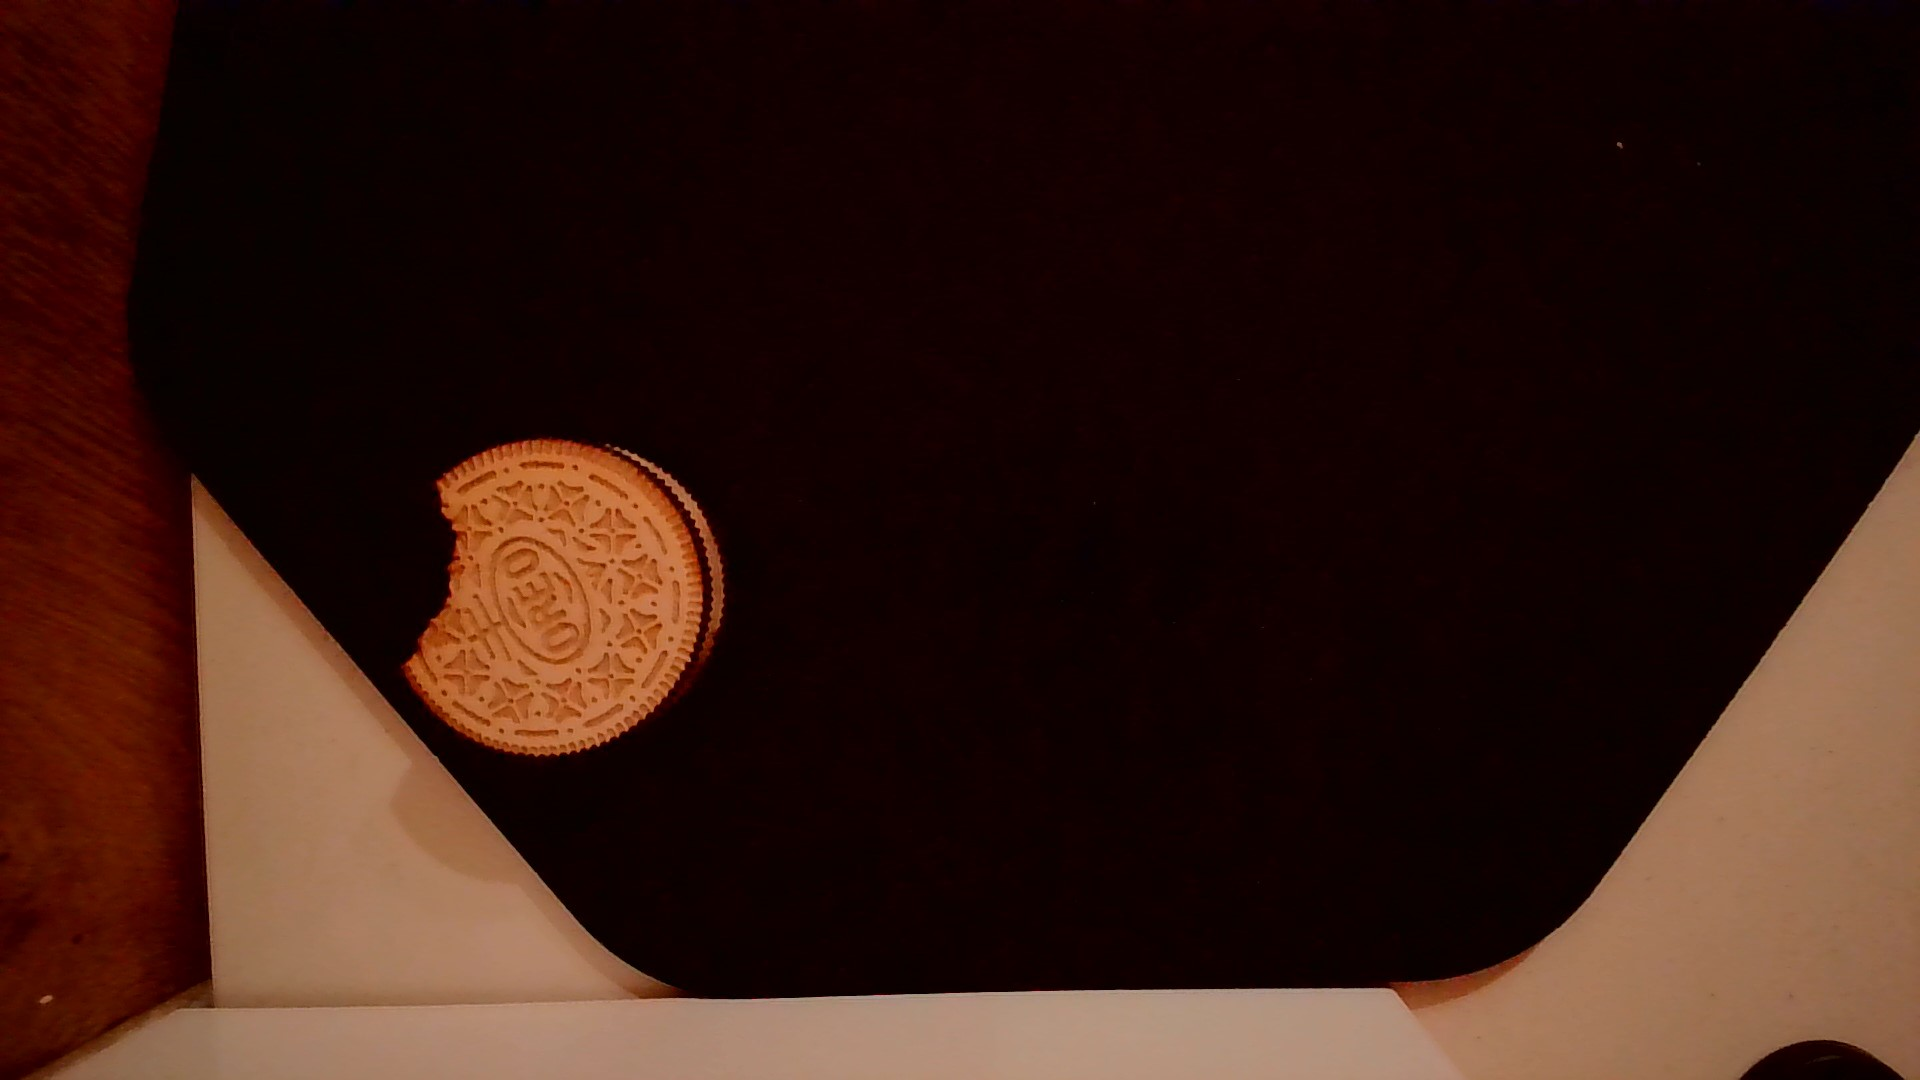Mangé: (396, 464, 467, 702)
Oréo: (393, 431, 733, 761)
